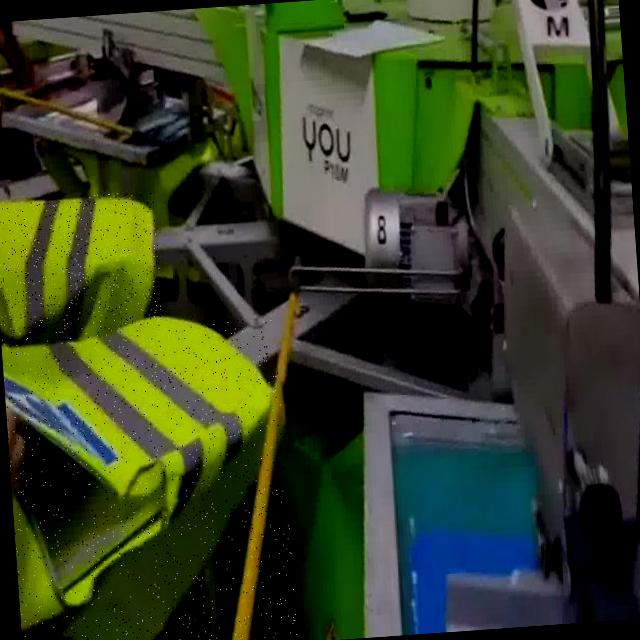vest: (0, 317, 297, 640), (0, 190, 163, 343)
